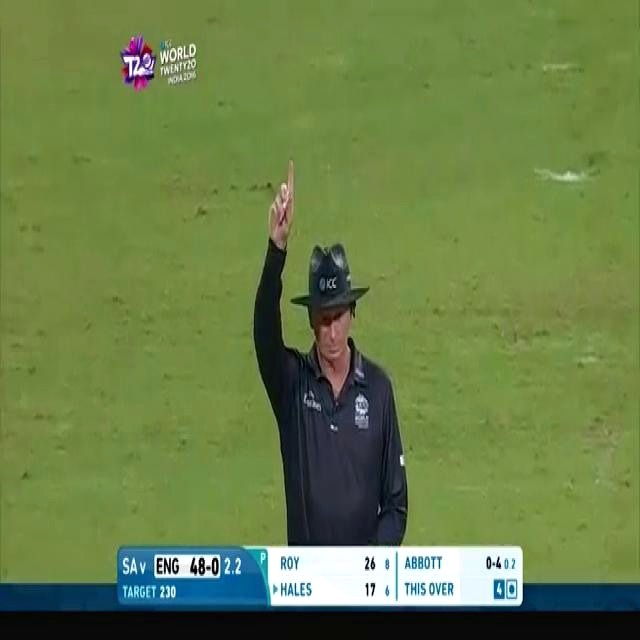Out: (250, 148, 415, 546)
